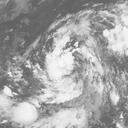cyclone: (41, 15, 110, 93)
